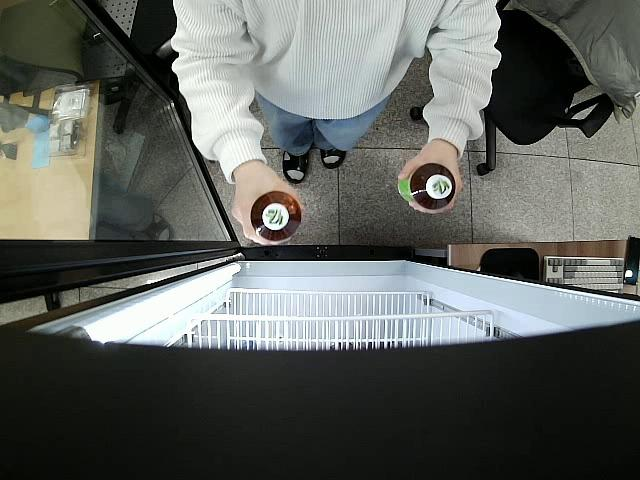00_hand: (231, 177, 305, 247), (398, 147, 463, 213)
19_17cha: (397, 163, 455, 211), (251, 191, 300, 242)
